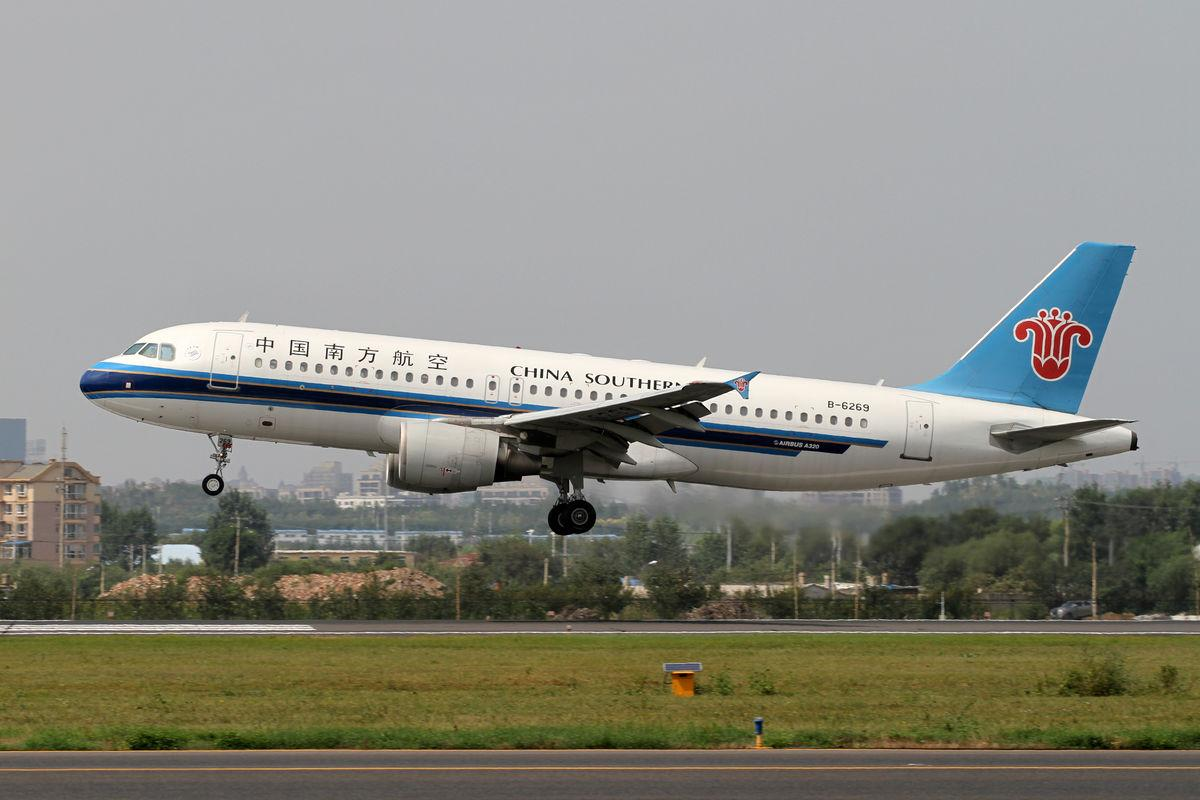airplane: (73, 233, 1157, 532)
